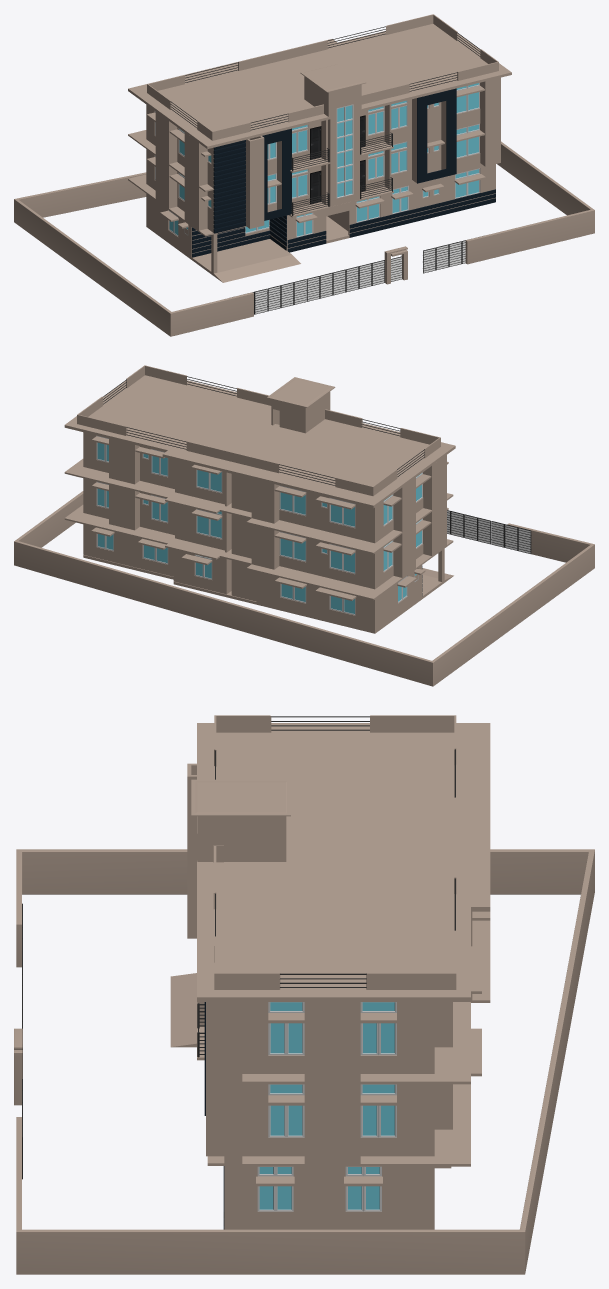
File: modern_building.glb
3 views of the same model, one above another, from view 1: azimuth 30°, elevation 25°; view 2: azimuth 150°, elevation 25°; view 3: azimuth 270°, elevation 25° (orthographic). The views are drawn at different scales.
Visible parts, largest first — view 1: Line064, Line069, Line057, Line066, Line055_Material #2_0, Box040, Box039, Object036_Material #8_0, Line068, Object035_Material #8_0, Object065_Material #8_0, Box034 (+5 smaller); view 2: Line064, Line069, Line057, Line066, Line055_Material #2_0, Box040, Line058, Line067, Box039, Line068, Object012_Material #3_0, Object026_Material #3_0; view 3: Line064, Line069, Line057, Line066, Line055_Material #2_0, Box039, Box040, Line058, Line067, Line068, Box020, Box019 (+4 smaller).
Boxes of the visible parts, x1,y1,x2,y2 form: Line064: (128,24,511,148); Line069: (14,141,594,336); Line057: (146,120,500,232); Line066: (146,77,500,188); Line055_Material #2_0: (146,164,495,273); Box040: (147,14,498,140); Box039: (300,63,366,206); Object036_Material #8_0: (262,88,456,220); Line068: (146,216,349,282); Object035_Material #8_0: (213,140,245,233); Object065_Material #8_0: (287,189,495,252); Box034: (336,104,353,198); Line064: (64,375,455,508); Line069: (14,491,594,686); Line057: (83,478,448,589); Line066: (83,423,448,543); Line055_Material #2_0: (83,524,444,630); Box040: (77,365,440,495); Line058: (64,505,453,600); Line067: (64,459,453,554); Box039: (267,377,335,433); Line068: (83,555,453,633); Object012_Material #3_0: (280,538,305,560); Object026_Material #3_0: (280,492,305,514); Line064: (197,723,490,1001); Line069: (16,849,594,1274); Line057: (187,859,472,1163); Line066: (187,763,472,1081); Line055_Material #2_0: (207,1156,451,1229); Box039: (191,779,290,1026); Box040: (213,715,456,989); Line058: (197,920,490,1166); Line067: (224,911,490,1084); Line068: (170,973,196,1047); Box020: (257,1166,293,1211); Box019: (345,1166,381,1211).
Bounding box in the file's own units: 31.15 × 11.25 × 19.99.
8 materials, 1 textured.
